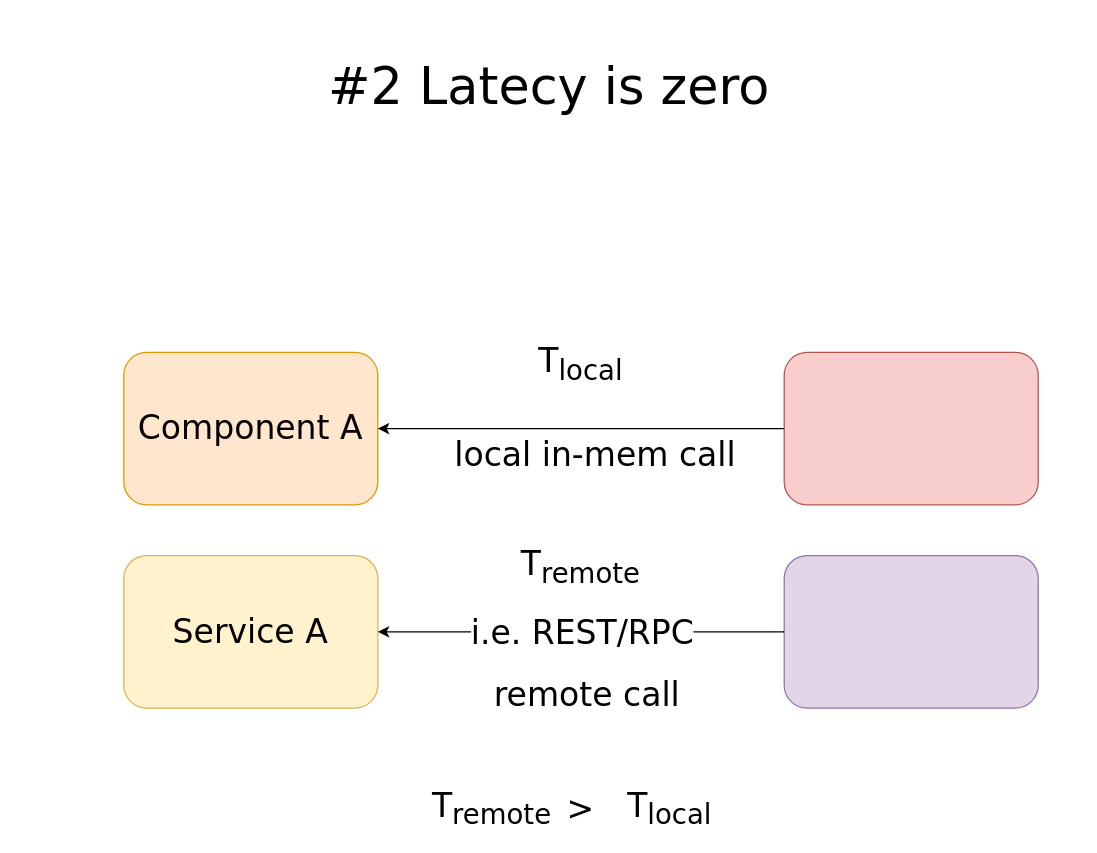
Image size: 1097x853. Some labels were removed from this diagram. Here are the shapes that lost their labels. From the top down, the centre of each, then its label:
At [910,428]: "Component B".
At [910,631]: "Service B".
